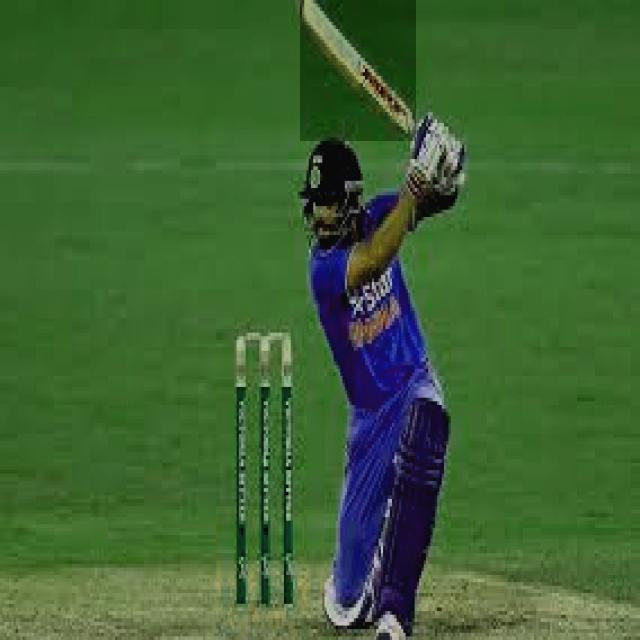bat: (301, 0, 419, 141)
toe: (298, 0, 312, 21)
